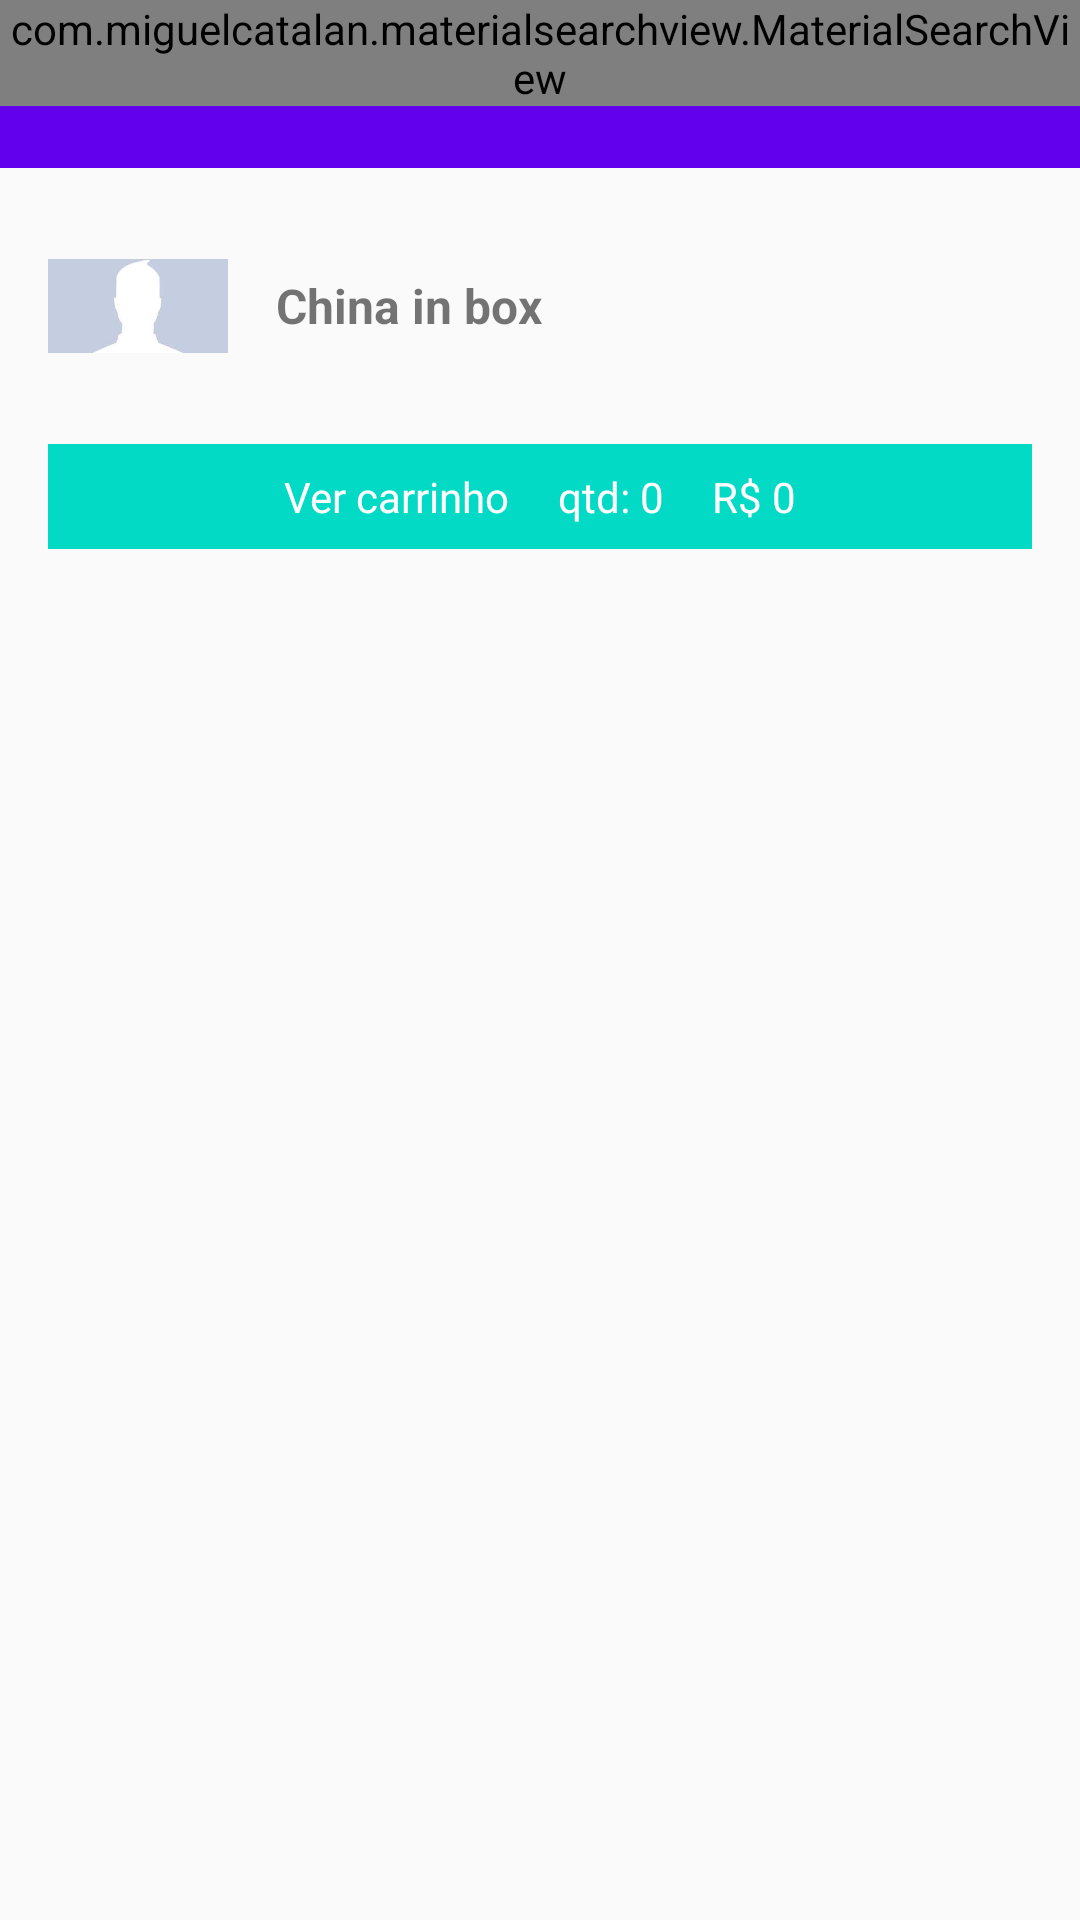

Named icons in this screenshot (1080w x 1920h) and their bounding boxes, (x1, y1, x2, y2):
perfil: (48, 259, 228, 353)
